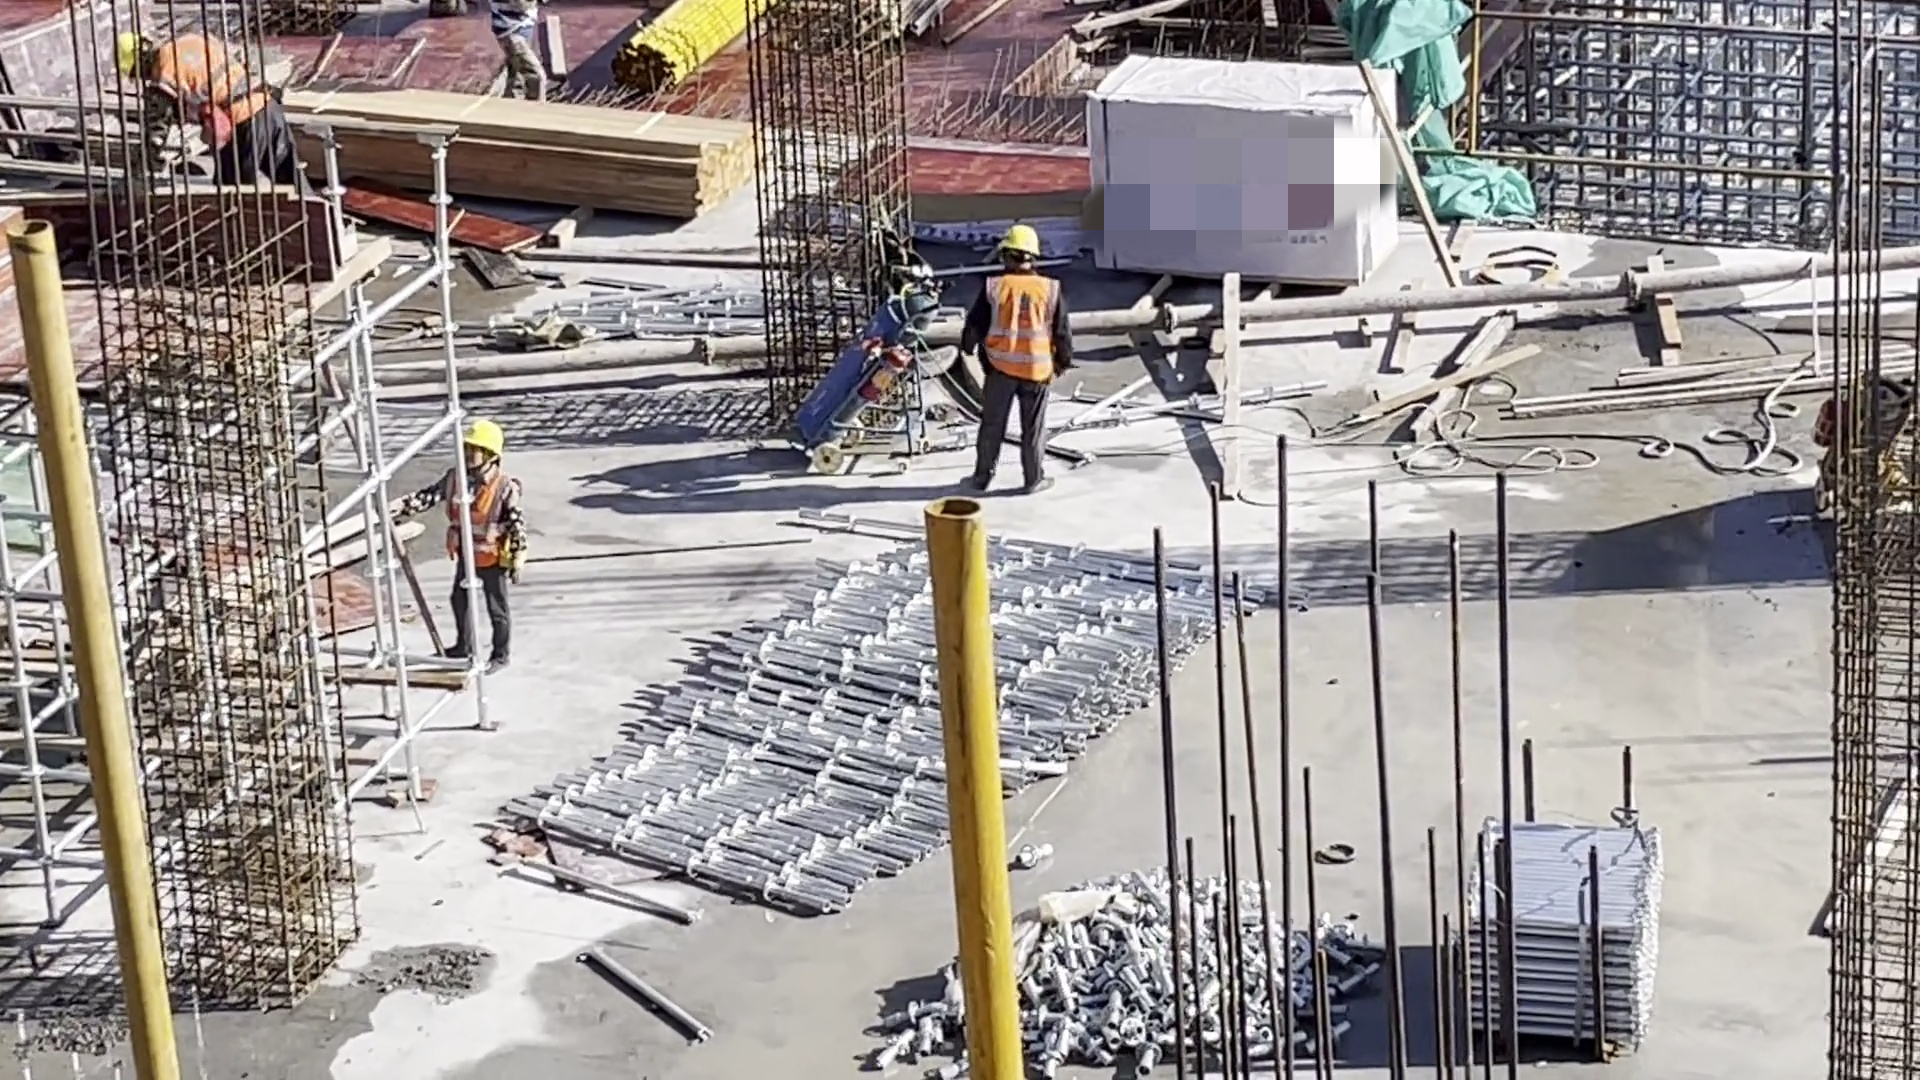helmet: (454, 424, 507, 459), (120, 33, 154, 74), (998, 224, 1037, 253)
person: (385, 424, 533, 658), (963, 219, 1074, 497), (118, 35, 291, 179), (491, 1, 573, 106)
scaffold: (507, 504, 1313, 911), (1465, 812, 1662, 1044)
vest: (159, 39, 267, 133), (983, 274, 1057, 382), (447, 471, 511, 567)
wood: (303, 90, 762, 219)
